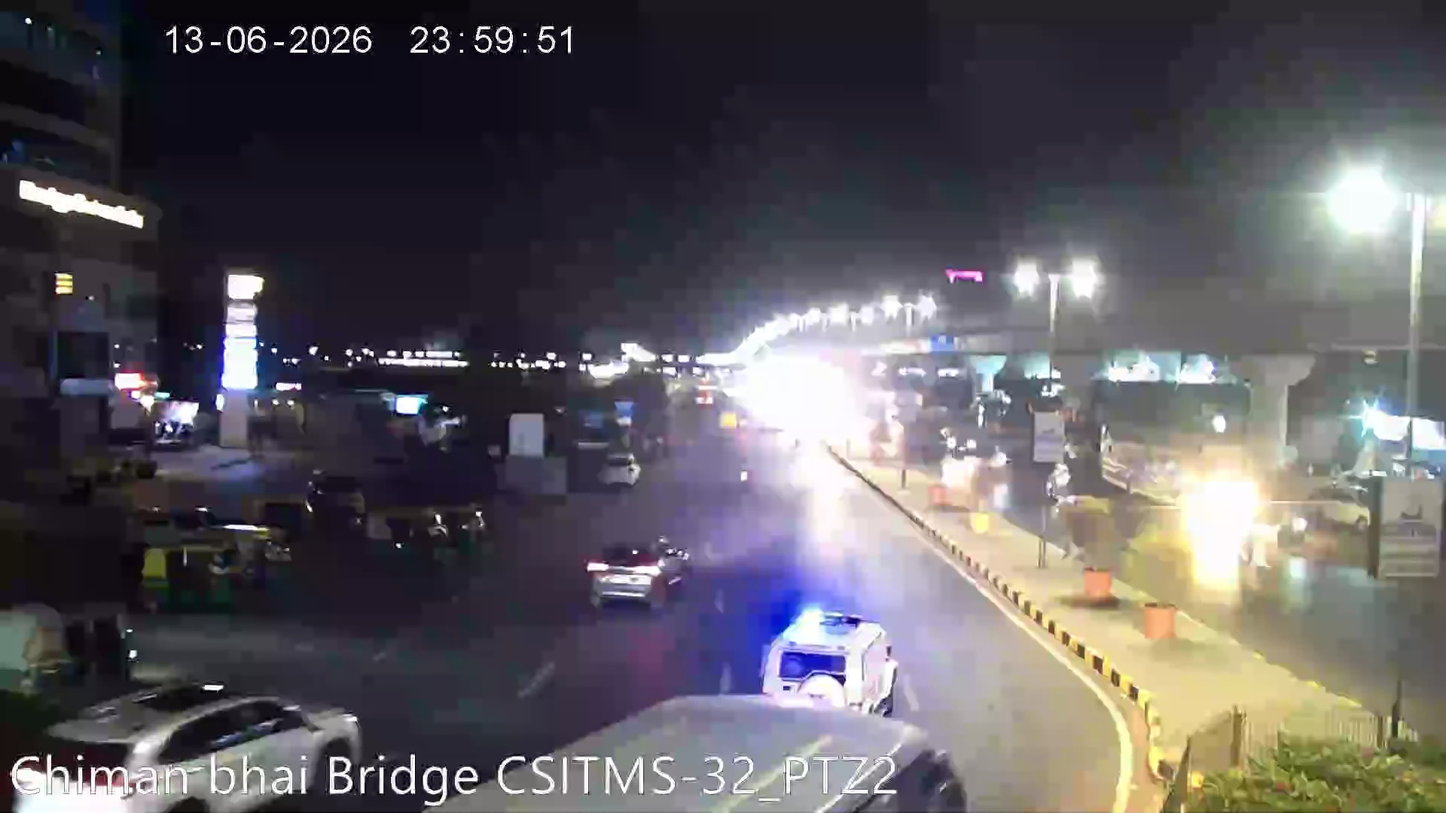auto_rickshaw: (133, 532, 246, 617), (201, 508, 304, 601), (349, 498, 461, 573), (389, 495, 493, 562), (417, 496, 491, 555)
car: (25, 681, 375, 797), (758, 606, 906, 708), (583, 533, 694, 609), (596, 449, 641, 490)
two_wheeler: (733, 456, 759, 499)
